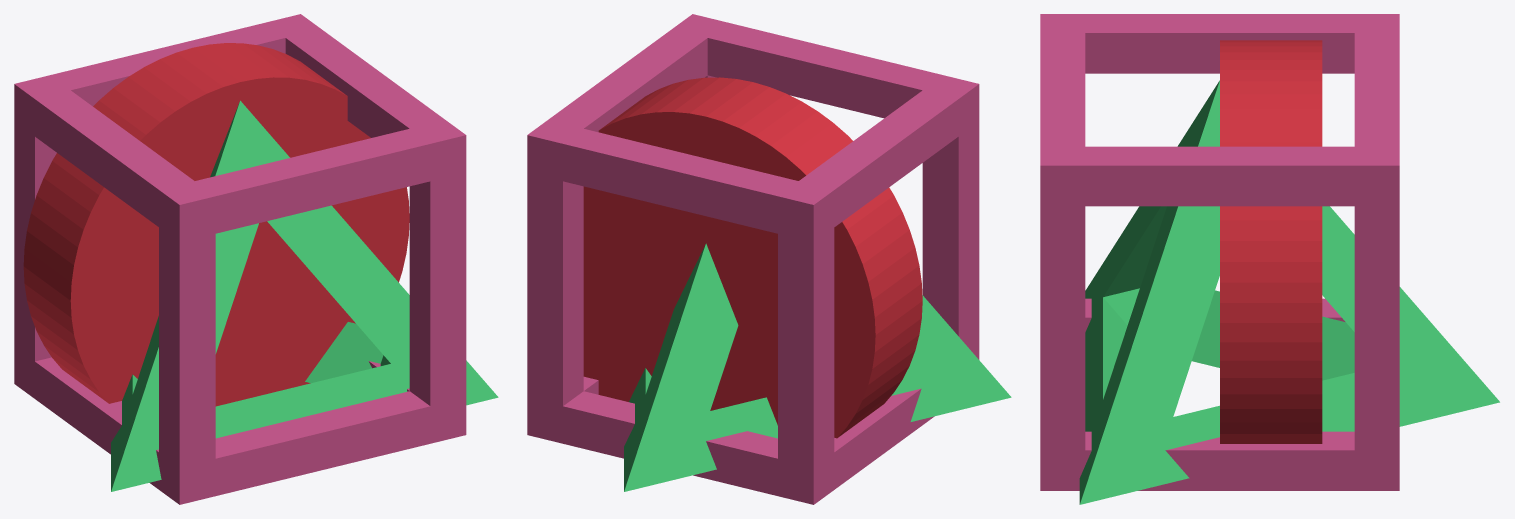
File: 3D-Button.fbx
3 views of the same model, side by side, from view 1: azimuth 30°, elevation 25°; view 2: azimuth 150°, elevation 25°; view 3: azimuth 270°, elevation 25° (orthographic). The views are drawn at different scales.
Visible parts, largest first — view 1: Square, Circle, Triangle; view 2: Square, Circle, Triangle; view 3: Square, Triangle, Circle.
Part boxes in pixels (box(x1,y1,x2,y2)): Square: box(14, 14, 466, 504); Circle: box(23, 43, 409, 406); Triangle: box(111, 100, 498, 491); Square: box(527, 14, 979, 504); Circle: box(583, 77, 922, 438); Triangle: box(624, 243, 1011, 491); Square: box(1040, 14, 1399, 490); Triangle: box(1079, 80, 1499, 504); Circle: box(1220, 40, 1322, 443).
Size of the model in its own units: 271 by 237 by 256.
